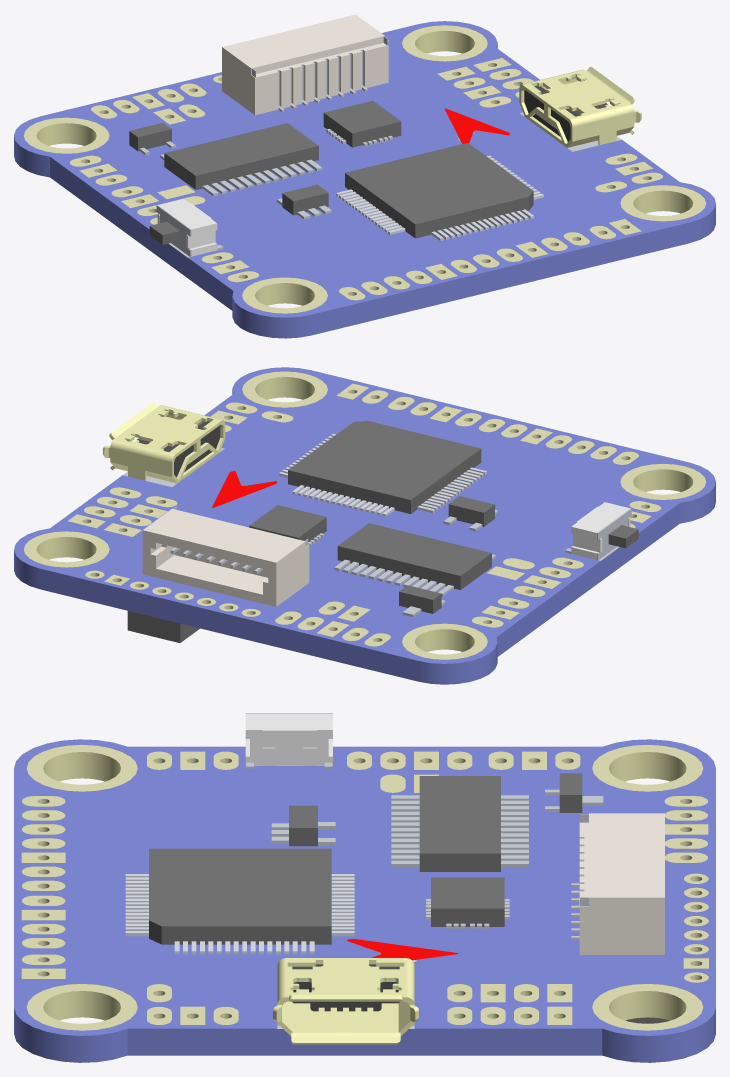
3 renders of one model, top to bottom at view 1: azimuth 30°, elevation 25°; view 2: azimuth 150°, elevation 25°; view 3: azimuth 270°, elevation 25°, orthographic. The views are drawn at different scales.
Parts seen in each view (by area): view 1: 3DGeom-920, 3DGeom-924, 3DGeom-1059, 3DGeom-1746, 3DGeom-1360, 3DGeom-1857, 3DGeom-922, 3DGeom-1464, 3DGeom-1745, 3DGeom-1119, 3DGeom-1858, 3DGeom-1912 (+7 smaller); view 2: 3DGeom-920, 3DGeom-924, 3DGeom-1059, 3DGeom-1746, 3DGeom-1360, 3DGeom-1857, 3DGeom-922, 3DGeom-1745, 3DGeom-1464, 3DGeom-1119, 3DGeom-1858, 3DGeom-1994 (+7 smaller); view 3: 3DGeom-920, 3DGeom-924, 3DGeom-1746, 3DGeom-1059, 3DGeom-1360, 3DGeom-1857, 3DGeom-922, 3DGeom-1119, 3DGeom-1745, 3DGeom-1858, 3DGeom-1464, 3DGeom-1361 (+5 smaller).
Part boxes in pixels (<box>): 3DGeom-920: <box>14,21,715,338</box>; 3DGeom-924: <box>23,25,706,313</box>; 3DGeom-1059: <box>222,14,388,115</box>; 3DGeom-1746: <box>345,143,533,238</box>; 3DGeom-1360: <box>519,67,641,147</box>; 3DGeom-1857: <box>164,123,318,189</box>; 3DGeom-922: <box>36,30,693,305</box>; 3DGeom-1464: <box>323,100,401,147</box>; 3DGeom-1745: <box>336,155,543,240</box>; 3DGeom-1119: <box>157,198,217,256</box>; 3DGeom-1858: <box>160,154,322,196</box>; 3DGeom-1912: <box>282,184,328,215</box>; 3DGeom-920: <box>14,367,715,684</box>; 3DGeom-924: <box>23,371,706,659</box>; 3DGeom-1059: <box>142,509,309,606</box>; 3DGeom-1746: <box>288,420,481,513</box>; 3DGeom-1360: <box>103,402,225,483</box>; 3DGeom-1857: <box>337,523,491,589</box>; 3DGeom-922: <box>36,377,693,651</box>; 3DGeom-1745: <box>279,433,486,516</box>; 3DGeom-1464: <box>249,505,326,541</box>; 3DGeom-1119: <box>571,502,630,559</box>; 3DGeom-1858: <box>334,554,495,596</box>; 3DGeom-1994: <box>127,611,199,642</box>; 3DGeom-920: <box>14,739,715,1062</box>; 3DGeom-924: <box>21,744,708,1030</box>; 3DGeom-1746: <box>149,848,331,944</box>; 3DGeom-1059: <box>579,813,664,954</box>; 3DGeom-1360: <box>273,958,418,1044</box>; 3DGeom-1857: <box>419,776,500,871</box>; 3DGeom-922: <box>43,752,686,1020</box>; 3DGeom-1119: <box>245,714,332,765</box>; 3DGeom-1745: <box>125,874,354,954</box>; 3DGeom-1858: <box>391,795,528,866</box>; 3DGeom-1464: <box>431,877,504,926</box>; 3DGeom-1361: <box>292,964,399,1011</box>.
Size of the model in its own units: 38.75 by 8.05 by 37.86.
